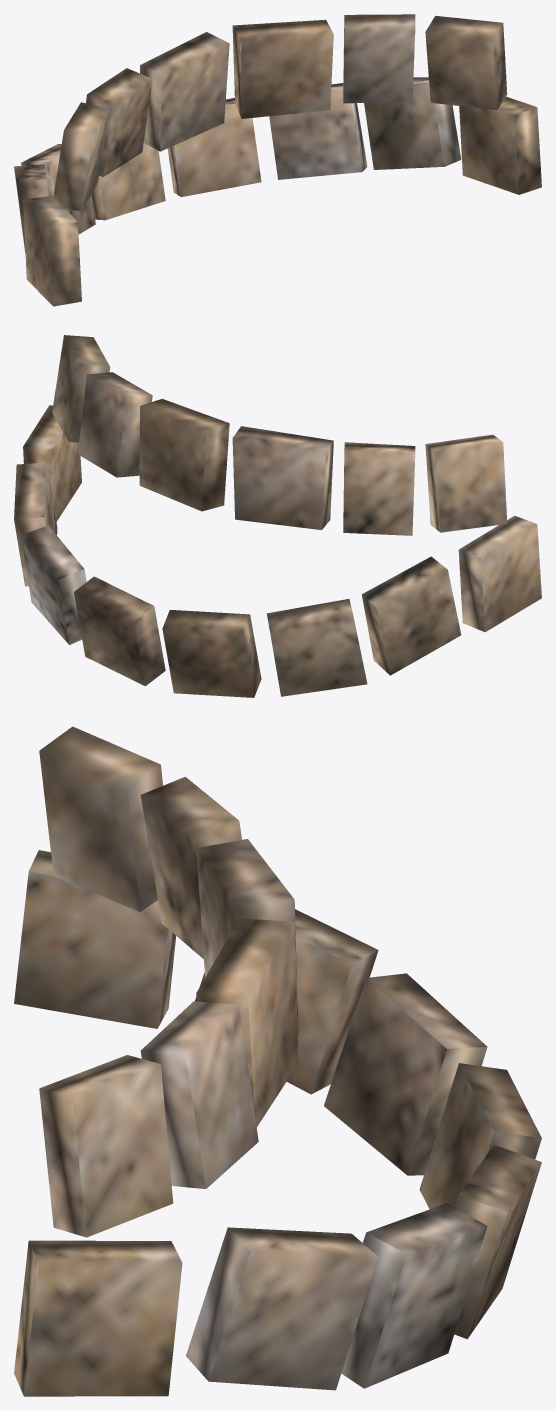
The model's file is mokeyteeth.fbx.
The picture shows the model from 3 angles, top to bottom: view 1: azimuth 30°, elevation 25°; view 2: azimuth 150°, elevation 25°; view 3: azimuth 270°, elevation 25°; orthographic projection. The views are drawn at different scales.
Parts seen in each view (by area): view 1: scp983_teeh_low.012, scp983_teeh_low.005; view 2: scp983_teeh_low.005, scp983_teeh_low.012; view 3: scp983_teeh_low.005, scp983_teeh_low.012.
Part boxes in pixels (left/top/right/bottom): scp983_teeh_low.012: left=52, top=14, right=507, bottom=211; scp983_teeh_low.005: left=14, top=77, right=541, bottom=306; scp983_teeh_low.005: left=14, top=405, right=541, bottom=697; scp983_teeh_low.012: left=52, top=335, right=507, bottom=535; scp983_teeh_low.005: left=14, top=850, right=541, bottom=1396; scp983_teeh_low.012: left=39, top=726, right=298, bottom=1237.
Size of the model in its own units: 14.82 by 6.12 by 8.
